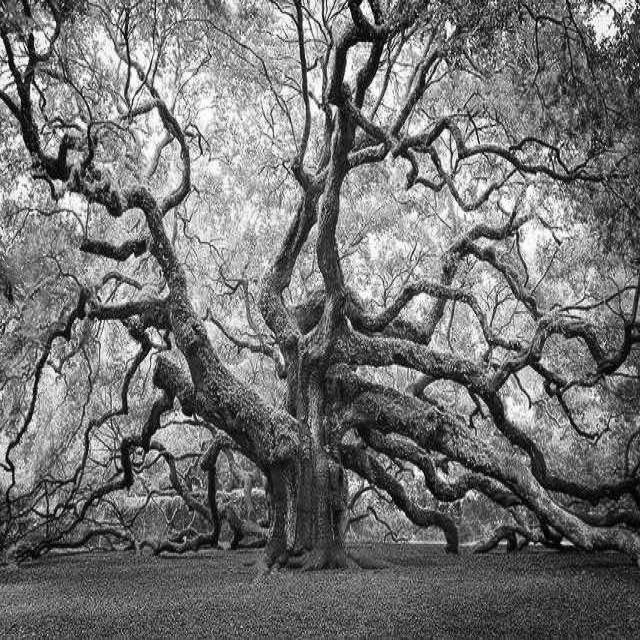Tree: (0, 1, 640, 569)
